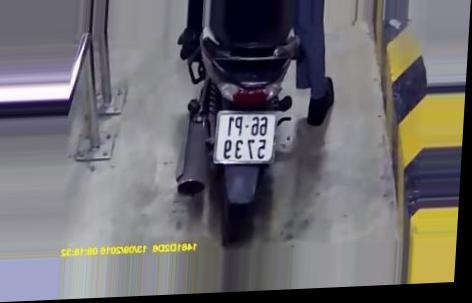License_Plate: (207, 105, 285, 168)
